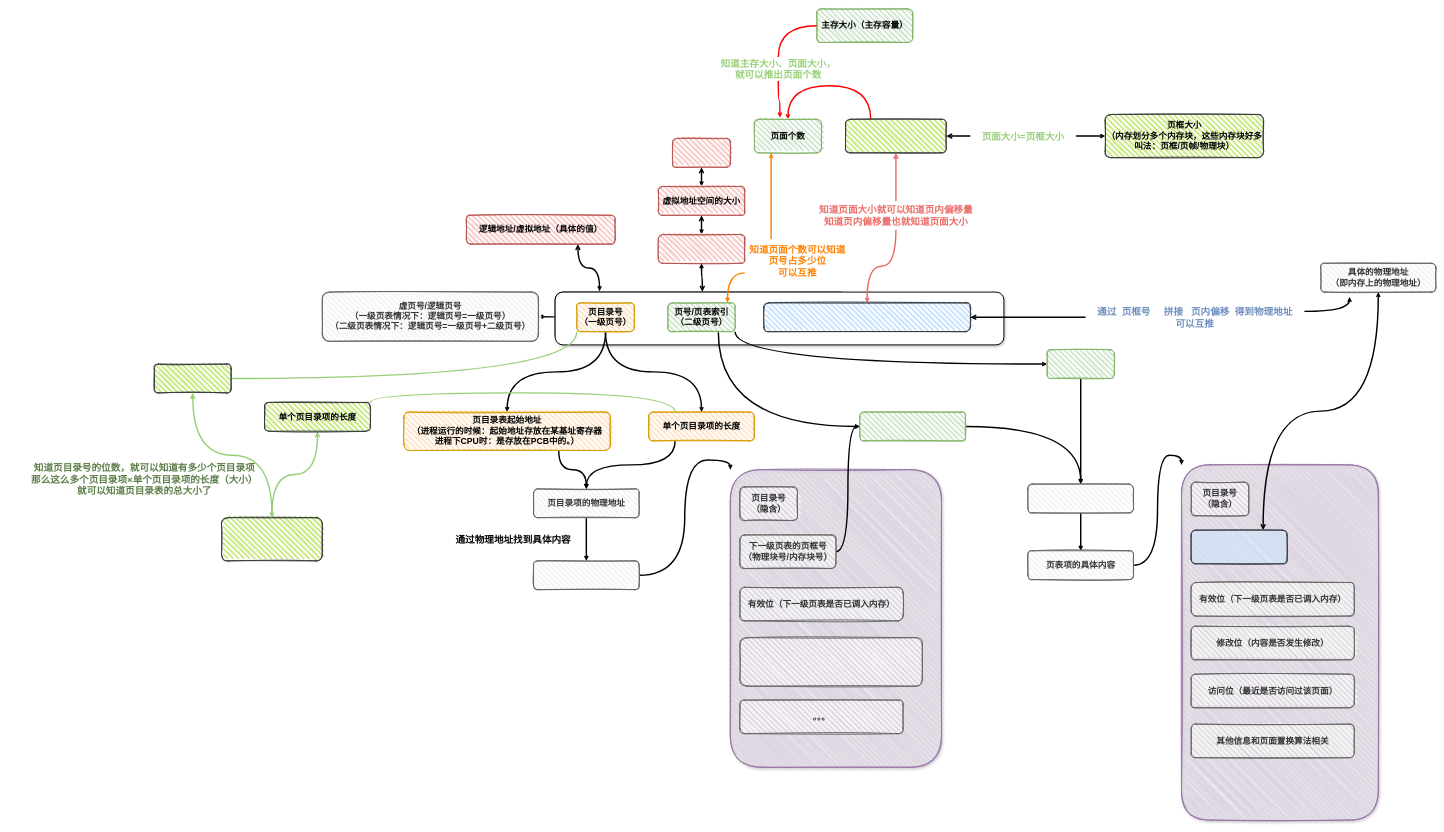
Some shapes in this 1444 by 832 pixel diagram are drawn without their labels. The centre of each missing label's shape, as x and y in pixels:
"修改位 （内容是否发生修改，写回外存的时候使用）" goes at (x=831, y=661).
"单个页表项长度" goes at (x=1080, y=364).
"系统的位数（eg:32位）" goes at (x=701, y=153).
"虚拟地址空间总位数" goes at (x=701, y=249).
"页内偏移/页内地址/页内位移 （eg：页内偏移占12位，那么可以表示2^12个地址）" goes at (x=867, y=317).
"页框号 （最终访问的页框）" goes at (x=1238, y=546).
"页目录号的位数 （一级页号）" goes at (x=192, y=378).
"页目录表的总大小 （总长度）" goes at (x=272, y=539).
"页目录项的具体内容" goes at (x=586, y=575).
"页表起始物理地址" goes at (x=912, y=426).
"页表项的物理地址" goes at (x=1080, y=498).
"页面大小 （进程划分的多个页面）" goes at (x=896, y=136).
